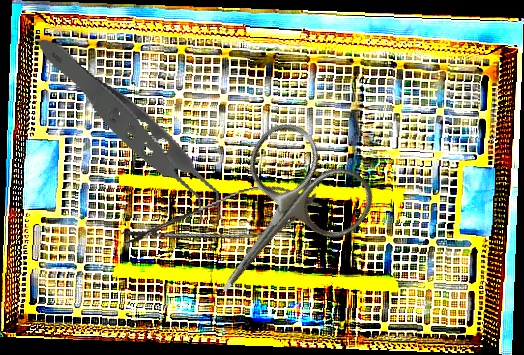Iris Scissors: (171, 112, 384, 332)
Micro Scissor: (117, 174, 324, 265)
Tissue Forceps: (36, 6, 229, 265)
